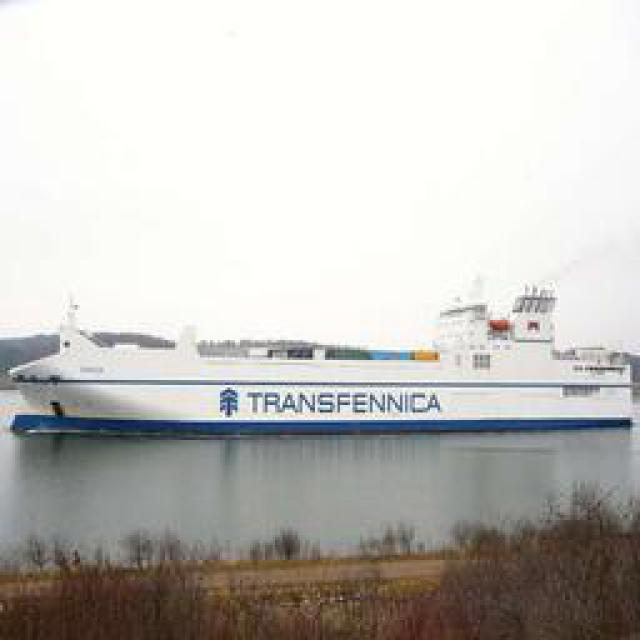Ship: (6, 285, 634, 438)
